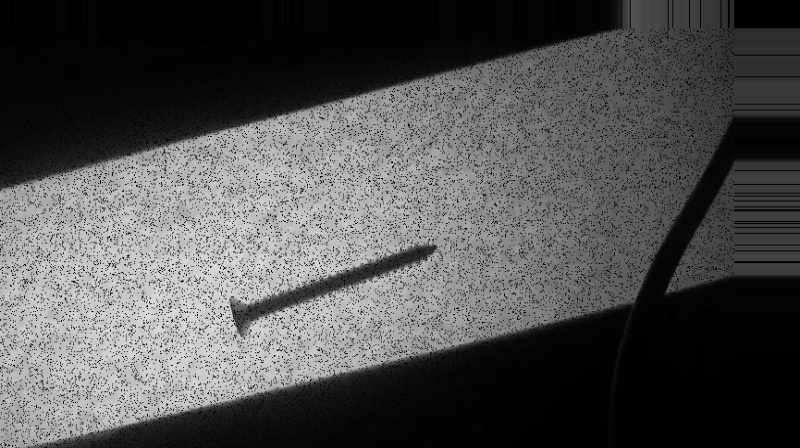S002: (226, 241, 441, 339)
